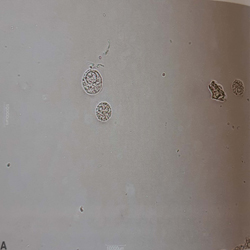WBC: (79, 65, 108, 97), (205, 76, 227, 107), (91, 100, 116, 124), (229, 73, 246, 100)
